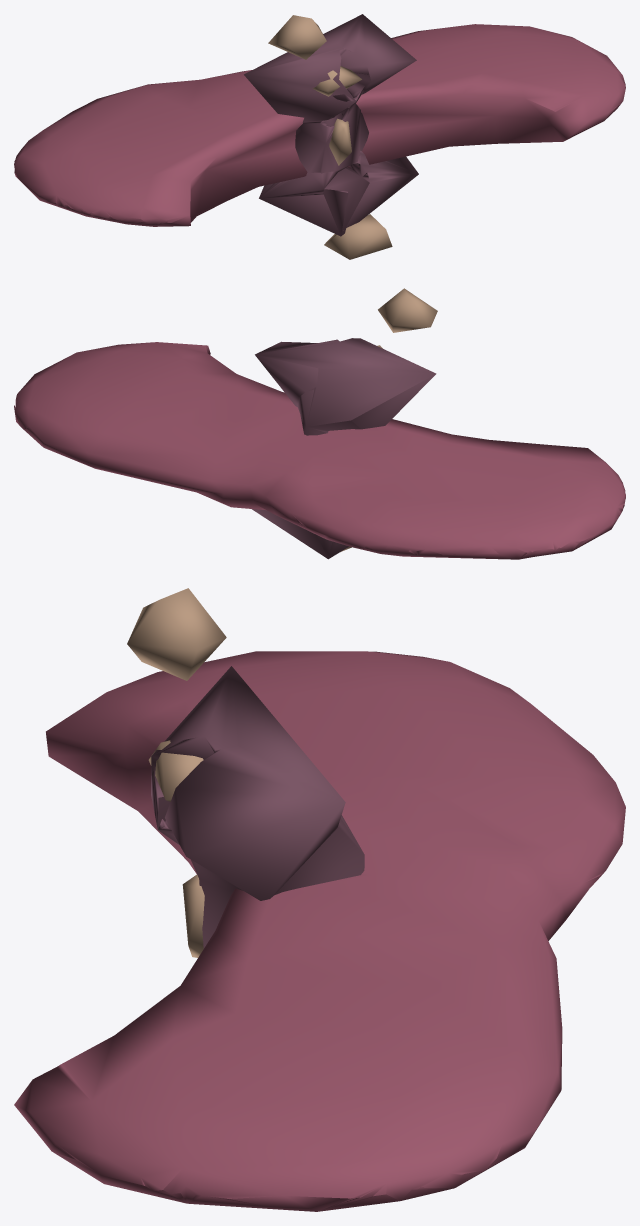
File: transmembrane_complex_lod3.glb
The picture shows the model from 3 angles, top to bottom: view 1: azimuth 30°, elevation 25°; view 2: azimuth 150°, elevation 25°; view 3: azimuth 270°, elevation 25°; orthographic projection. The views are drawn at different scales.
Parts seen in each view (by area): view 1: Soft_Undulating_Membrane.001, Asymmetric_Transmembrane_Complex.001, released cargo.001, approaching cargo.001, compressed cargo.001, captured cargo.001; view 2: Soft_Undulating_Membrane.001, Asymmetric_Transmembrane_Complex.001, approaching cargo.001; view 3: Soft_Undulating_Membrane.001, Asymmetric_Transmembrane_Complex.001, approaching cargo.001, captured cargo.001, compressed cargo.001.
Boxes of the visible parts, <box> form: Soft_Undulating_Membrane.001: <box>14,24,625,226</box>; Asymmetric_Transmembrane_Complex.001: <box>244,14,418,236</box>; released cargo.001: <box>324,214,392,259</box>; approaching cargo.001: <box>268,15,326,59</box>; compressed cargo.001: <box>329,118,351,165</box>; captured cargo.001: <box>312,66,361,96</box>; Soft_Undulating_Membrane.001: <box>14,342,625,559</box>; Asymmetric_Transmembrane_Complex.001: <box>252,338,436,559</box>; approaching cargo.001: <box>378,288,437,332</box>; Soft_Undulating_Membrane.001: <box>14,651,625,1211</box>; Asymmetric_Transmembrane_Complex.001: <box>151,666,364,948</box>; approaching cargo.001: <box>127,588,226,680</box>; captured cargo.001: <box>148,740,203,801</box>; compressed cargo.001: <box>182,874,204,957</box>.
Size of the model in its own units: 6.53 by 2.87 by 3.08.
